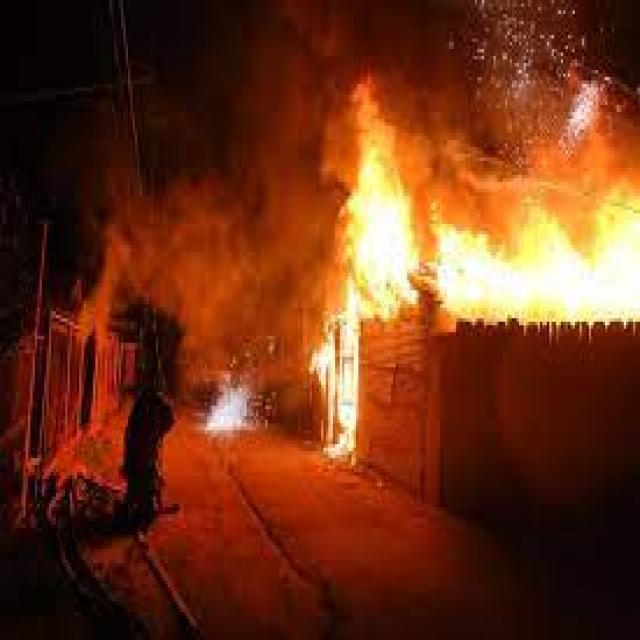Fire: (348, 170, 640, 337), (192, 368, 383, 467)
Smoke: (100, 0, 640, 262)
